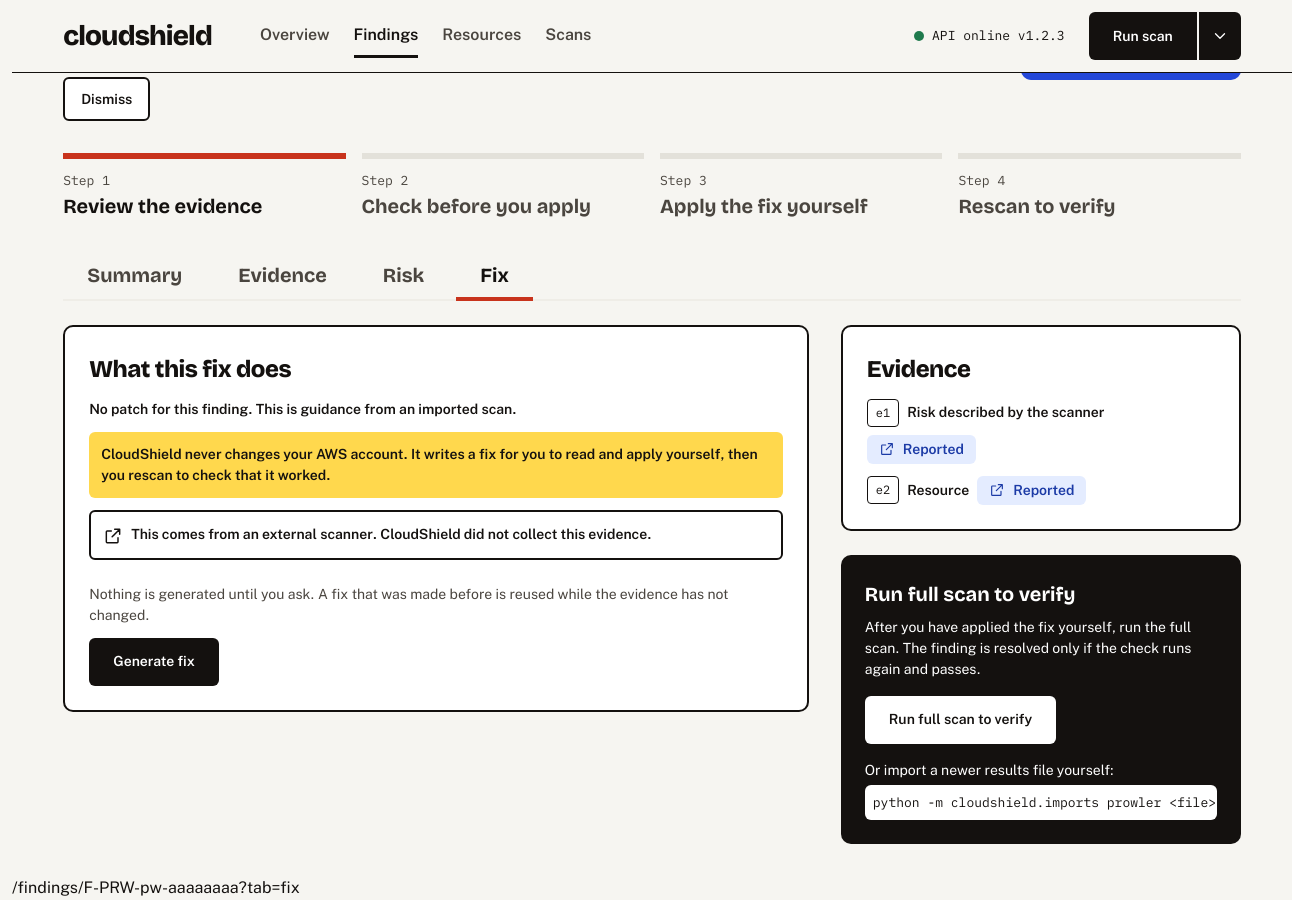
Scenario: Fix page: What to do › shows the section with its label, summary, steps and documentation link
This screenshot has width=1292, height=900.
(page scrolled)
Click the button "Generate fix": (154, 662) x1=89 y1=638 x2=219 y2=686
(page scrolled)
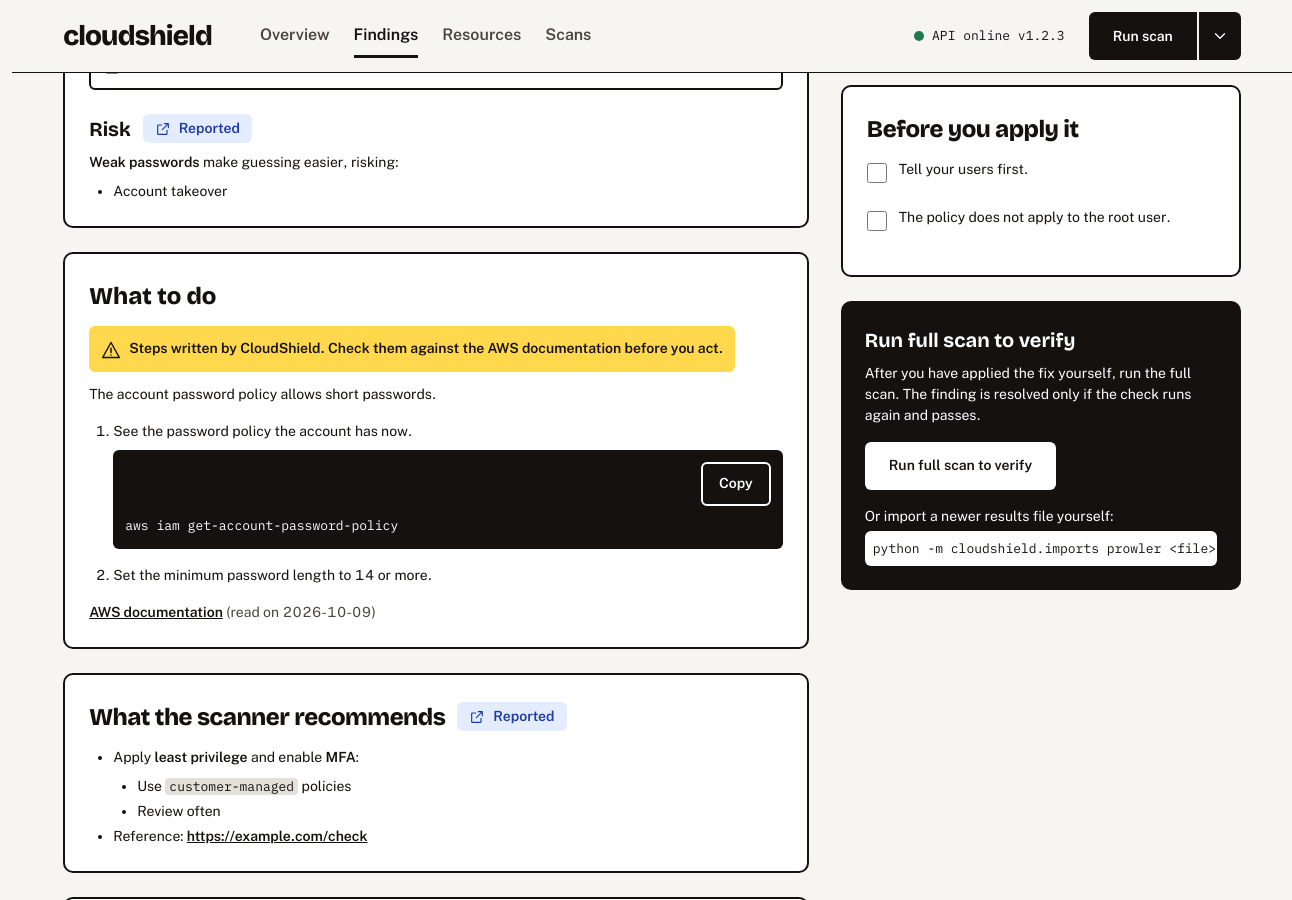
Now the heading "What to do" is shown, box x1=89 y1=282 x2=216 y2=310
Now the text "Steps written by CloudShield. Check them against the AWS documentation before you act." is shown, box x1=129 y1=340 x2=723 y2=356
Now the text "The account password policy allows short passwords." is shown, box x1=89 y1=386 x2=436 y2=402
